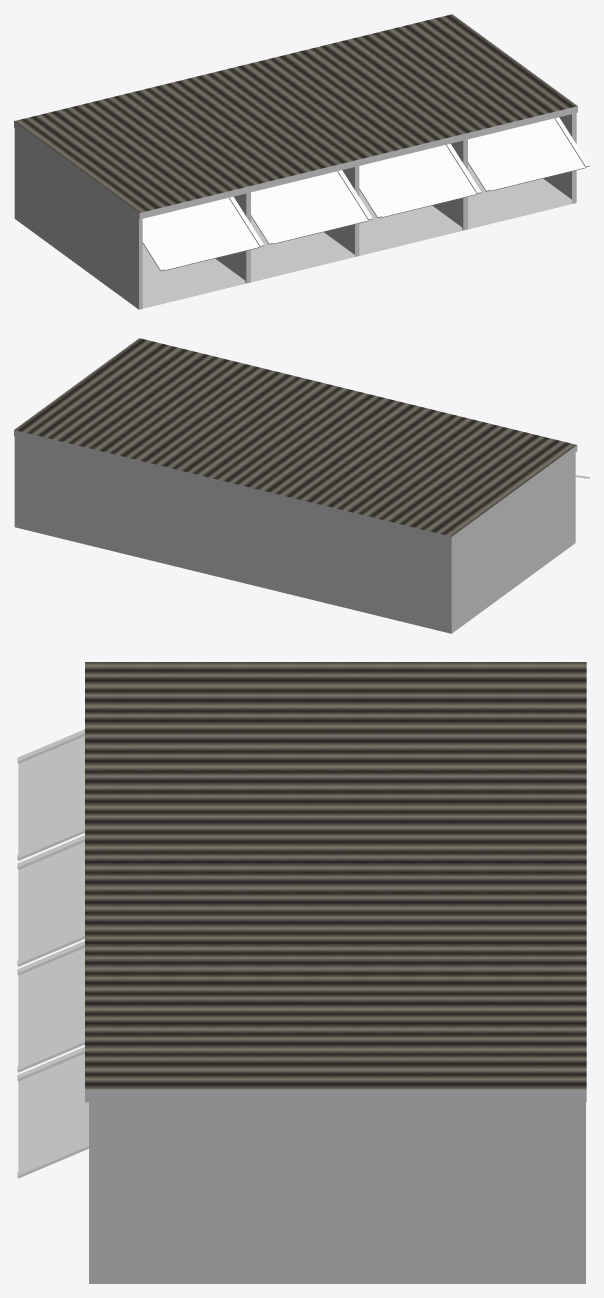
Rendered from Garage.fbx.
3 views of the same model, one above another, from view 1: azimuth 30°, elevation 25°; view 2: azimuth 150°, elevation 25°; view 3: azimuth 270°, elevation 25° (orthographic). The views are drawn at different scales.
Visible parts, largest first — view 1: Model; view 2: Model; view 3: Model.
Part boxes in pixels (left/top/right/bottom): Model: left=14, top=14, right=589, bottom=309; Model: left=14, top=338, right=589, bottom=633; Model: left=17, top=662, right=586, bottom=1283.
Size of the model in its own units: 1058 by 225 by 596.
